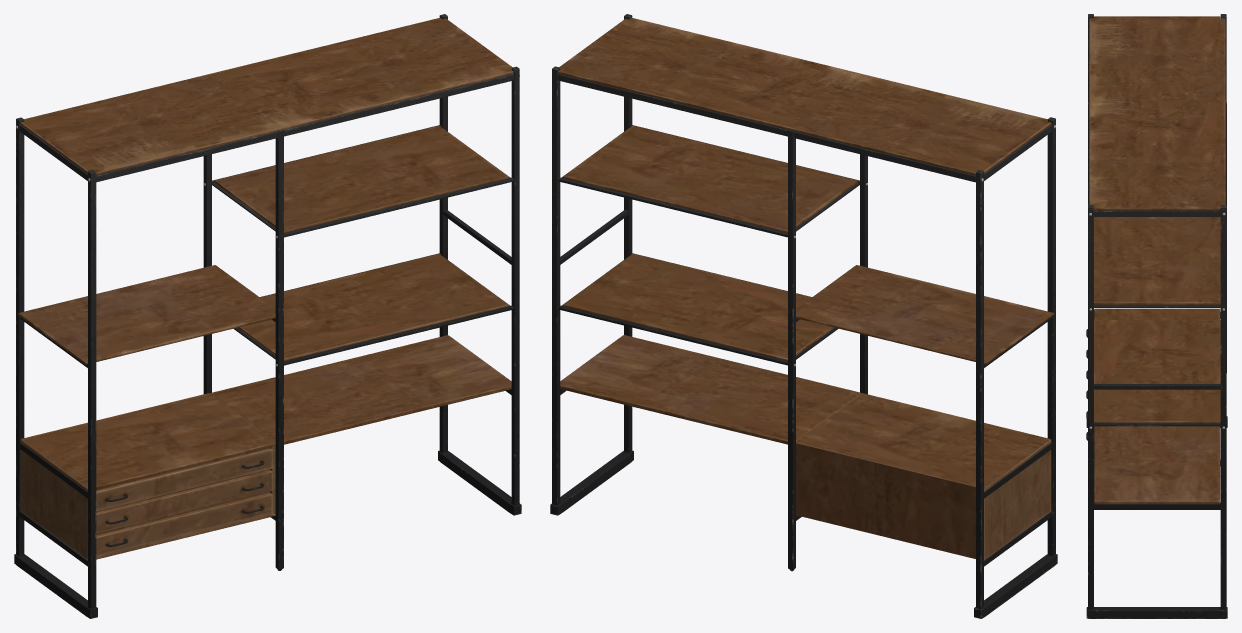
Rendered from steel_frame_shelves_03.glb.
The picture shows the model from 3 angles, left to right: view 1: azimuth 30°, elevation 25°; view 2: azimuth 150°, elevation 25°; view 3: azimuth 270°, elevation 25°; orthographic projection. The views are drawn at different scales.
Parts seen in each view (by area): view 1: steel_frame_shelves_03; view 2: steel_frame_shelves_03; view 3: steel_frame_shelves_03.
Part boxes in pixels (box(x1,y1,x2,y2)): steel_frame_shelves_03: box(14, 14, 521, 618); steel_frame_shelves_03: box(550, 14, 1057, 618); steel_frame_shelves_03: box(1086, 14, 1227, 618).
Size of the model in its own units: 2.35 by 2.31 by 0.7213.
Materials: 2 (2 with a texture image).
